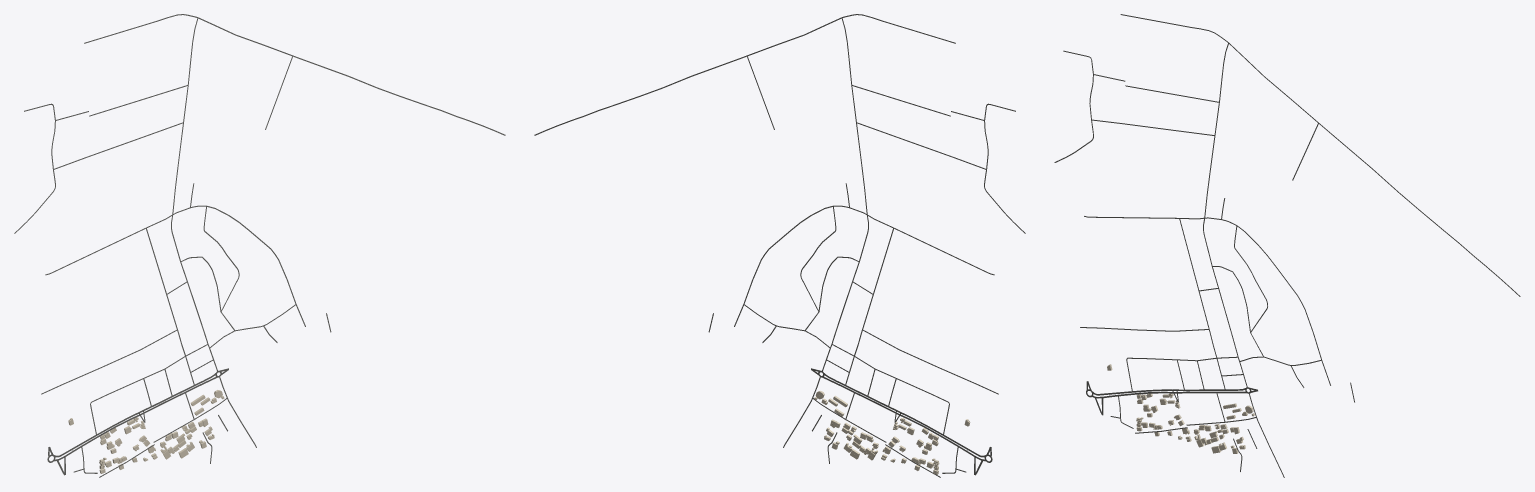
The model's file is irbid_3591_3257.glb.
3 renders of one model, left to right at view 1: azimuth 30°, elevation 25°; view 2: azimuth 150°, elevation 25°; view 3: azimuth 330°, elevation 25°, orthographic. The views are drawn at different scales.
Visible parts, largest first — view 1: Road .007, Road .009, Road .003; view 2: Road .007, Road .009, Road .003; view 3: Road .007, Road .009, Road .003.
Part boxes in pixels (x1,y1,x2,y2): Road .007: (84, 14, 505, 135); Road .009: (171, 18, 218, 371); Road .003: (45, 205, 305, 326); Road .007: (534, 14, 955, 135); Road .009: (821, 18, 868, 371); Road .003: (734, 205, 994, 326); Road .007: (1120, 14, 1520, 296); Road .009: (1203, 43, 1247, 387); Road .003: (1084, 216, 1330, 385).
Bounding box in the file's own units: 1563 × 1391 × 8.7.
